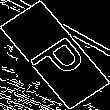P_NE: (20, 25, 90, 85)
